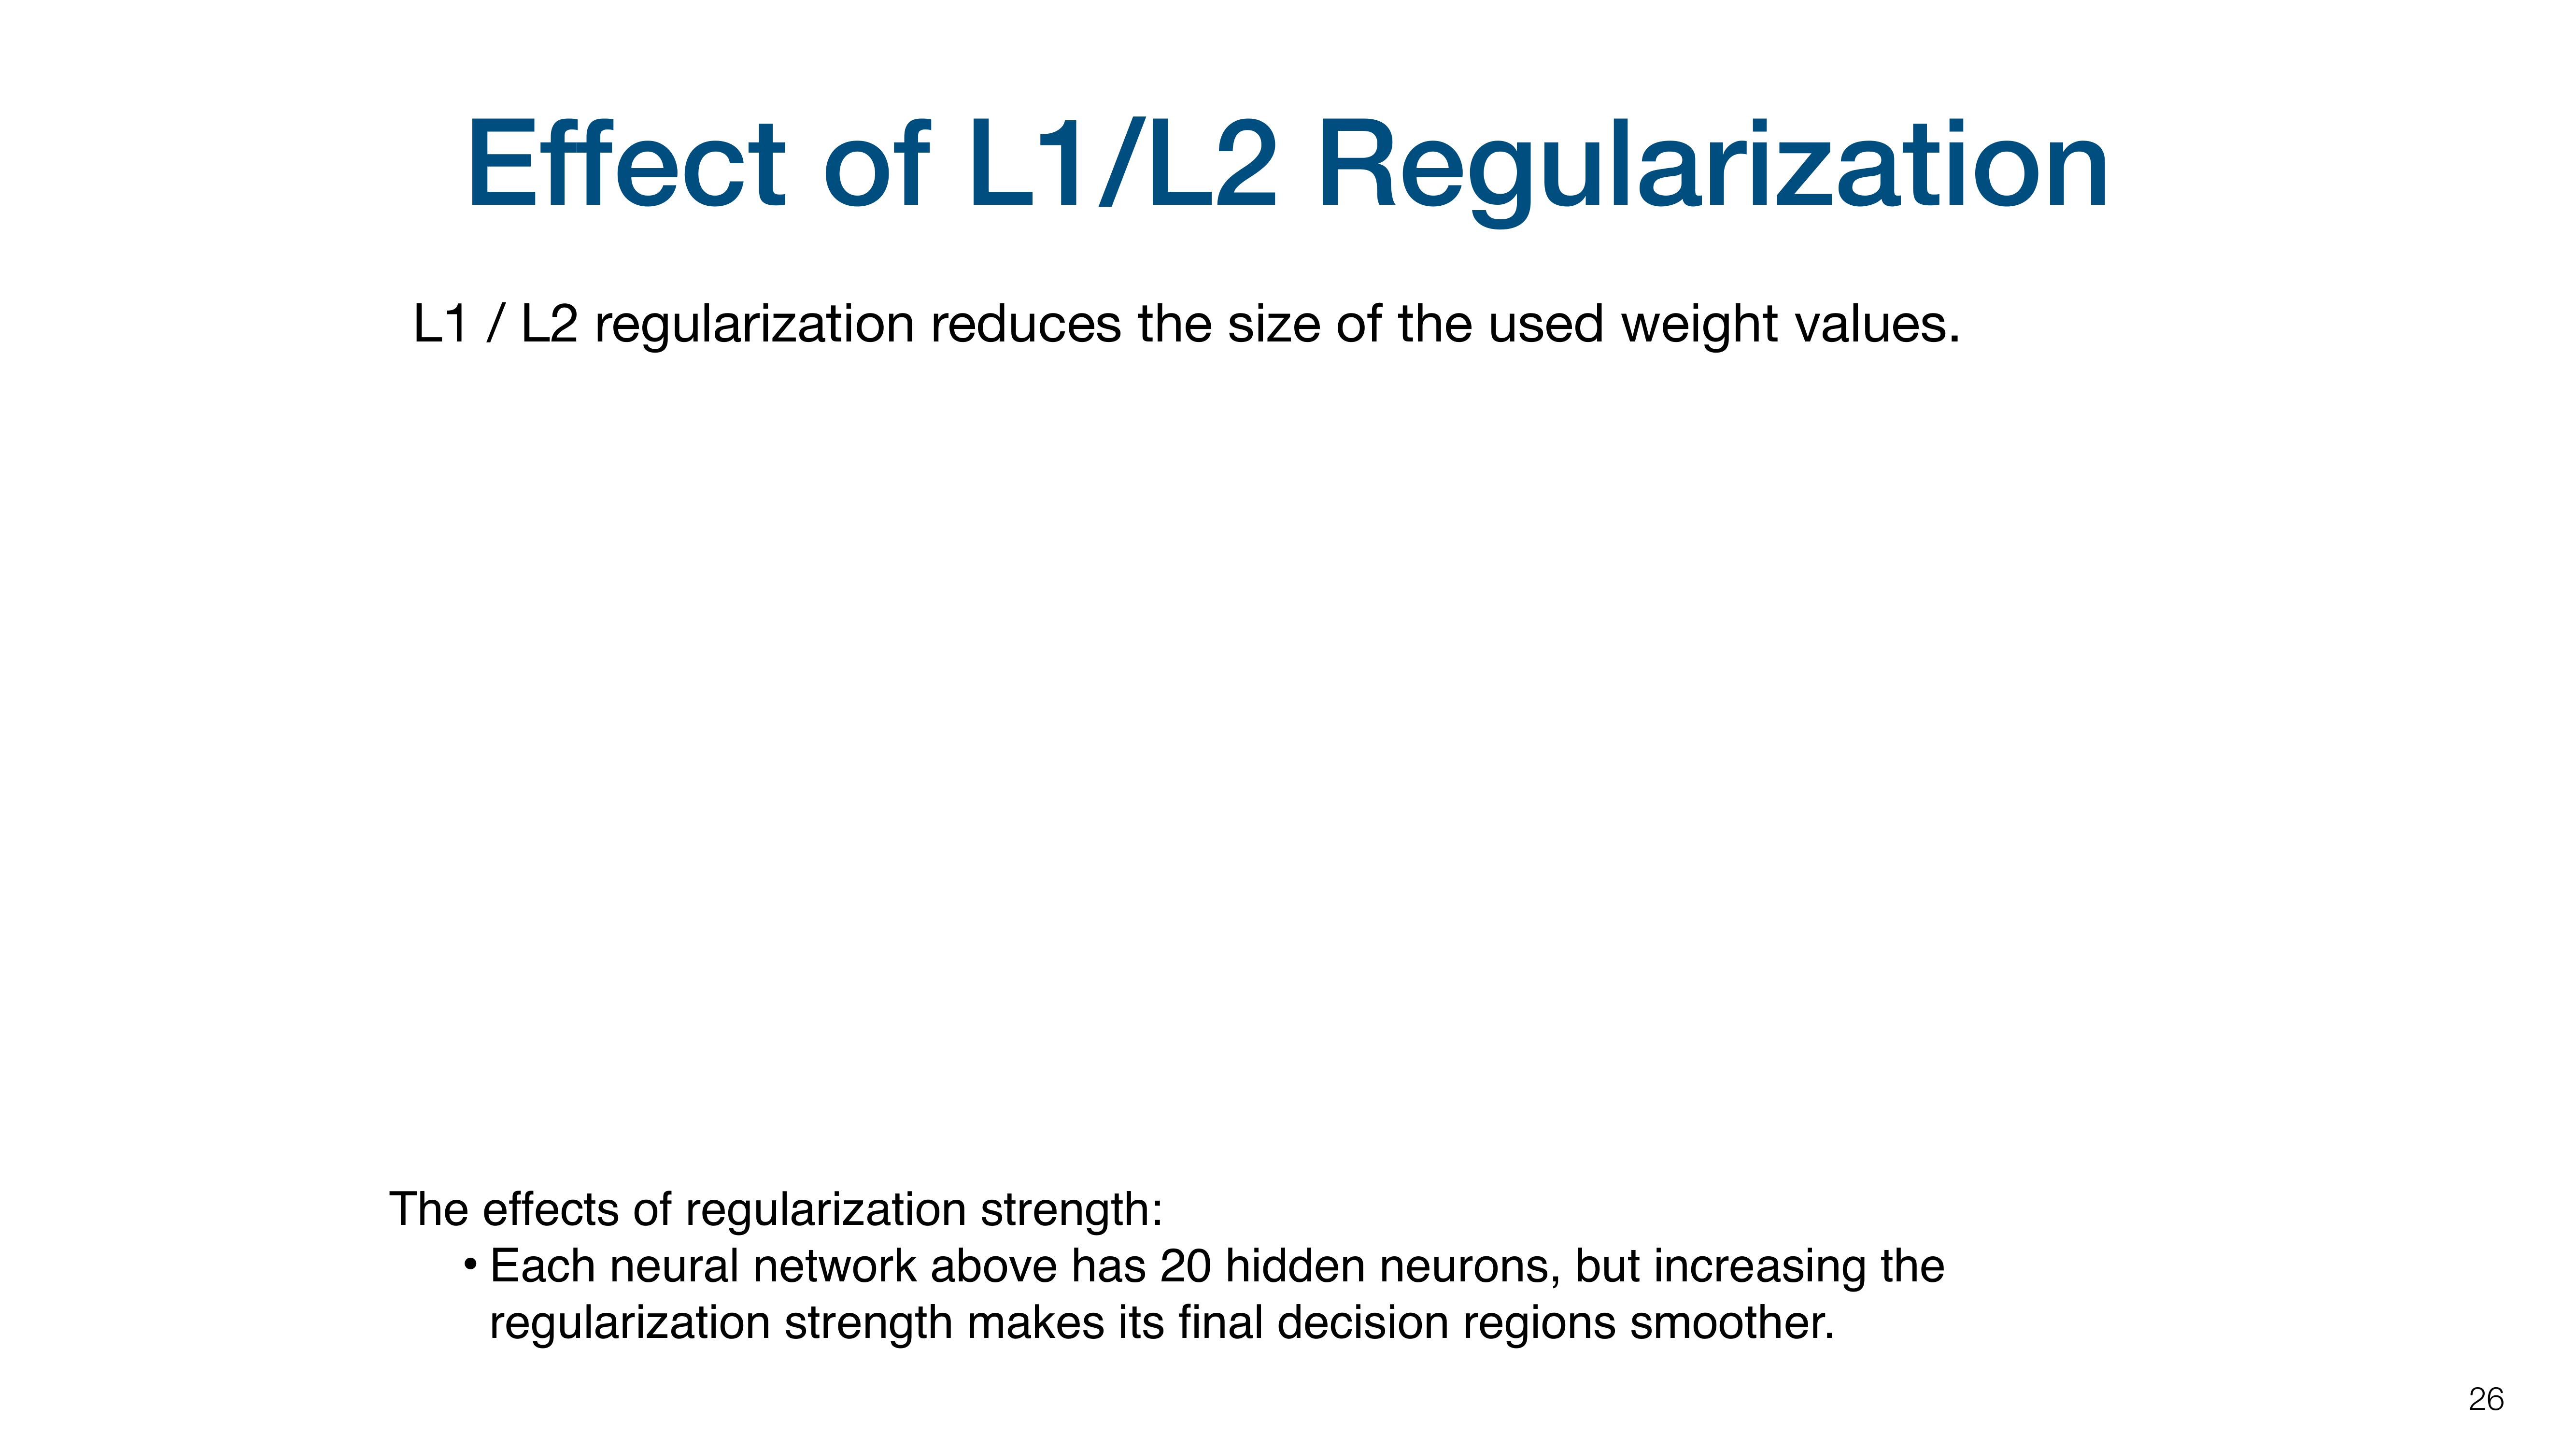Title: (464, 106, 2125, 230)
